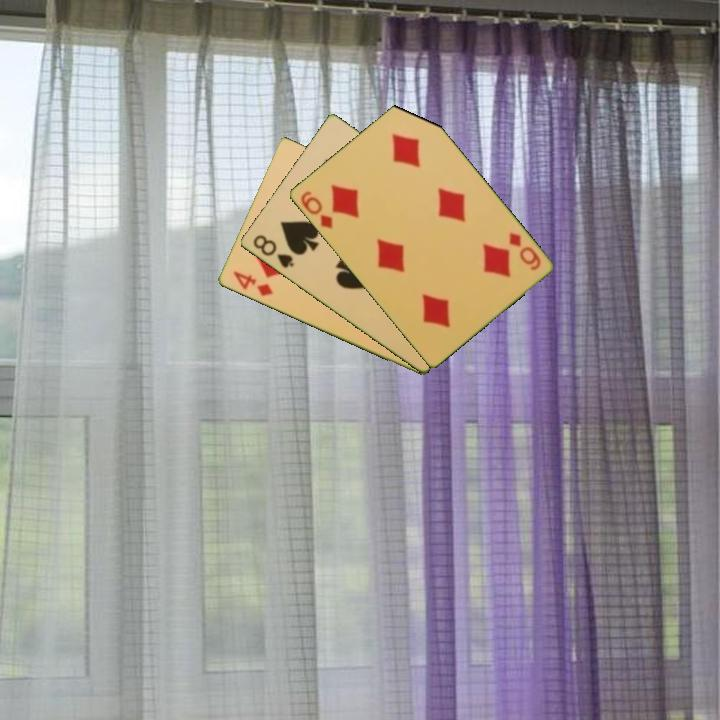4d: (229, 268, 275, 299)
6d: (296, 187, 335, 232), (505, 229, 543, 273)
8s: (249, 231, 297, 271)
